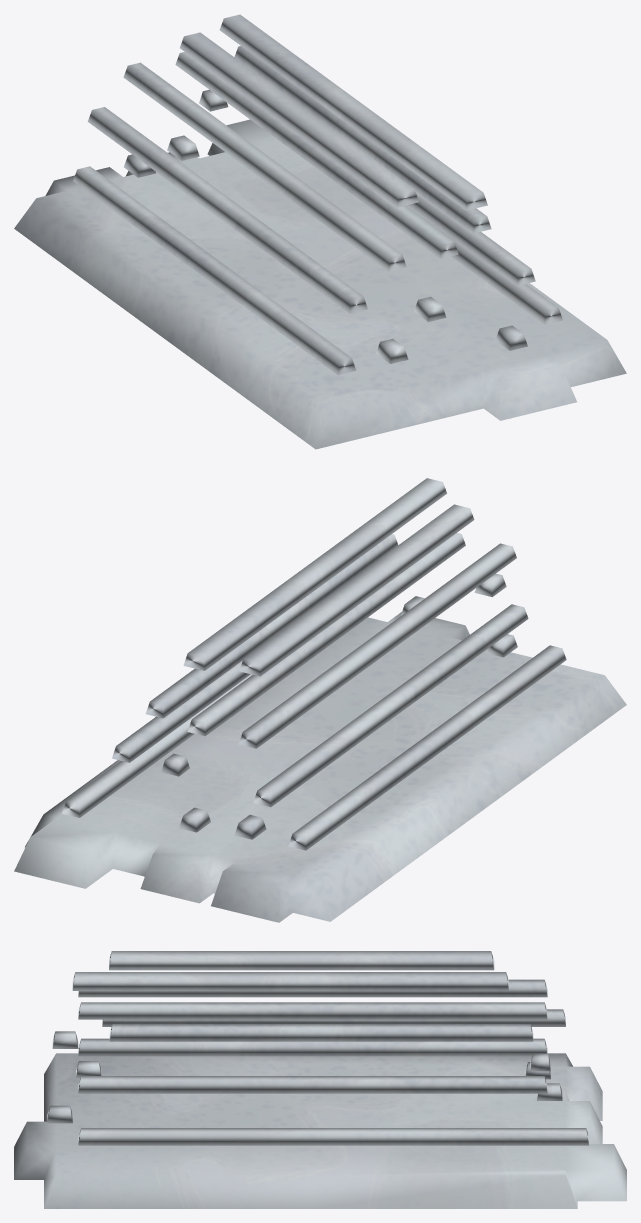
File: Wood_Pile_3_Snow.fbx
3 renders of one model, top to bottom at view 1: azimuth 30°, elevation 25°; view 2: azimuth 150°, elevation 25°; view 3: azimuth 270°, elevation 25°, orthographic. The views are drawn at different scales.
Visible parts, largest first — view 1: Wood_Pile_3_Snow; view 2: Wood_Pile_3_Snow; view 3: Wood_Pile_3_Snow.
Boxes of the visible parts, x1,y1,x2,y2 form: Wood_Pile_3_Snow: [14, 14, 626, 449]; Wood_Pile_3_Snow: [14, 478, 626, 922]; Wood_Pile_3_Snow: [14, 951, 626, 1208].
Size of the model in its own units: 220 by 134 by 425.
